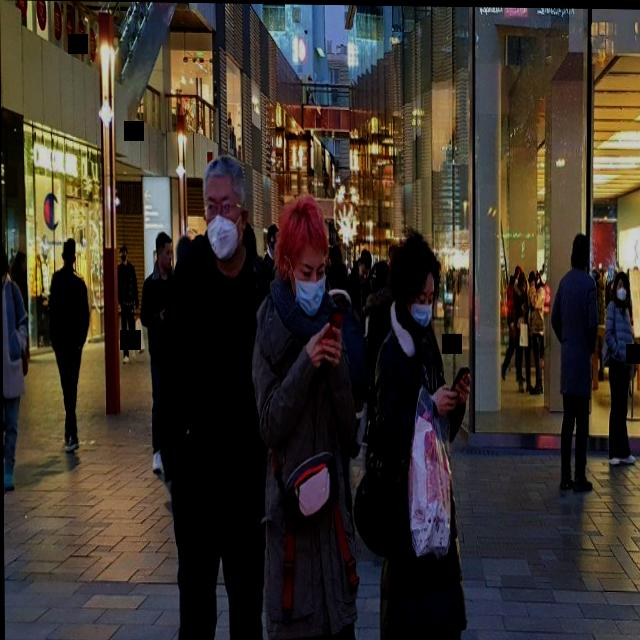Mask: (274, 186, 329, 322), (197, 149, 249, 267), (390, 220, 437, 338), (609, 261, 629, 307), (118, 237, 130, 267)
NO-Mask: (152, 227, 174, 280), (352, 244, 373, 286), (1, 234, 7, 287)
